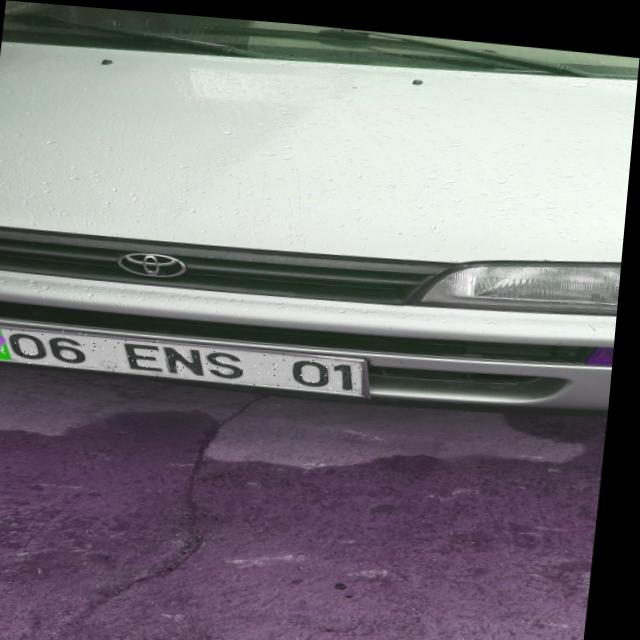license_plate: (0, 321, 371, 389)
